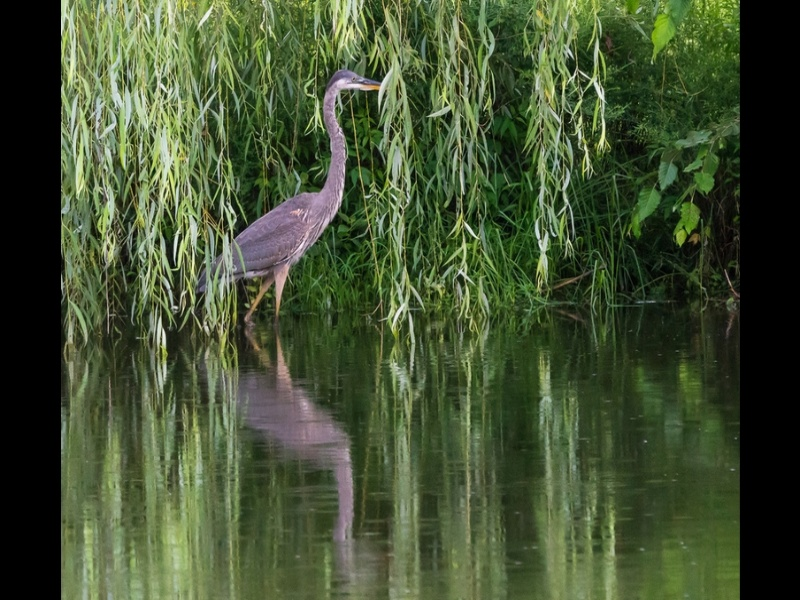heron: (210, 70, 390, 330)
